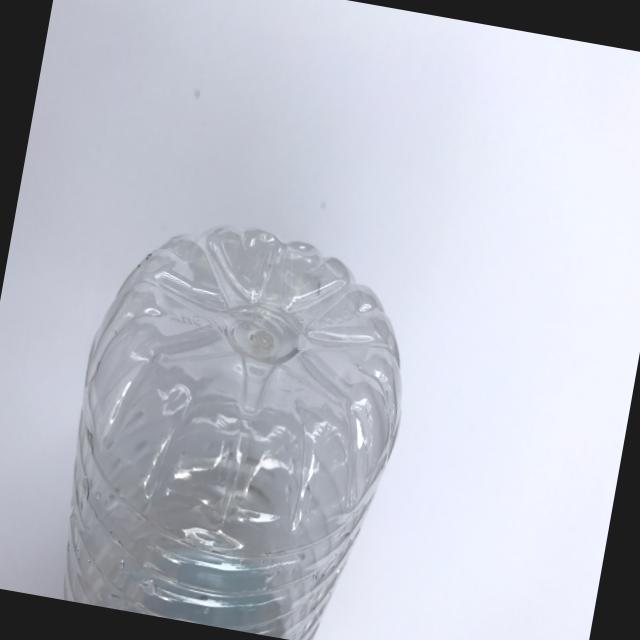Plastic: (19, 177, 481, 640)
